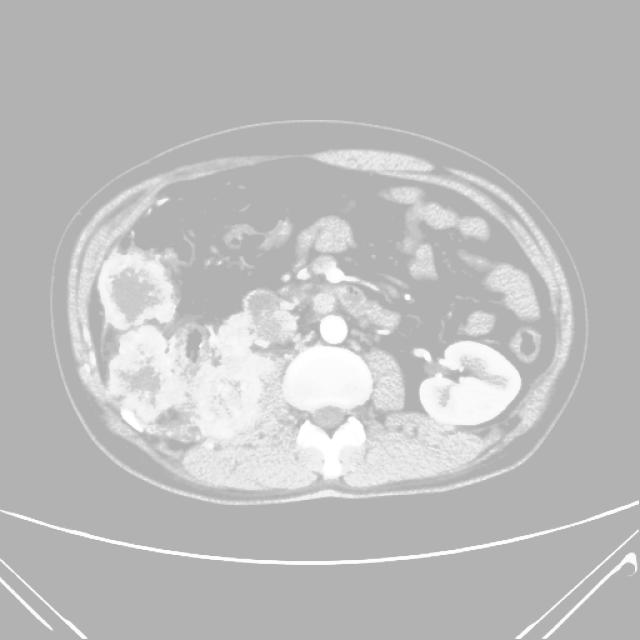TUMOR: (121, 209, 493, 434)
